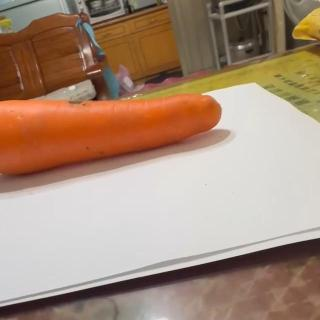carrot: (0, 92, 222, 177)
